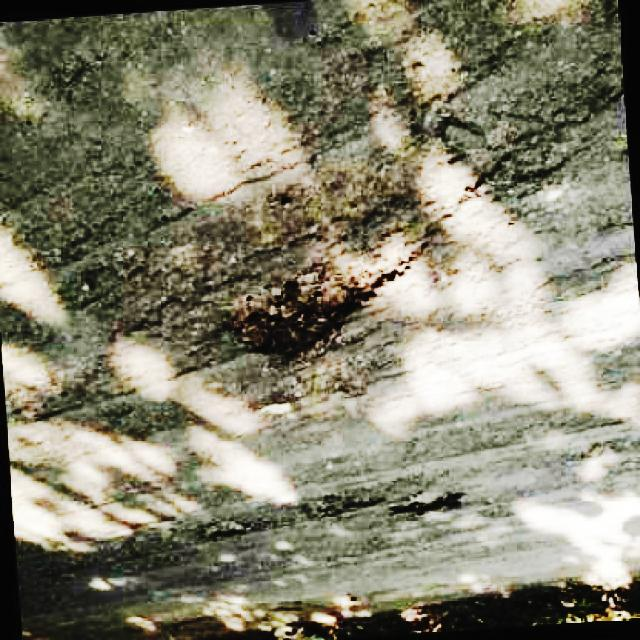pothole: (235, 252, 411, 360), (391, 481, 472, 517)
